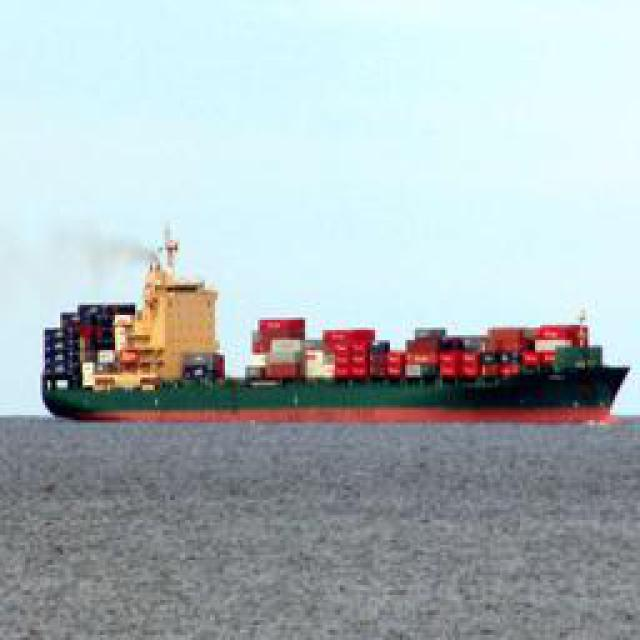Ship: (24, 206, 637, 437)
